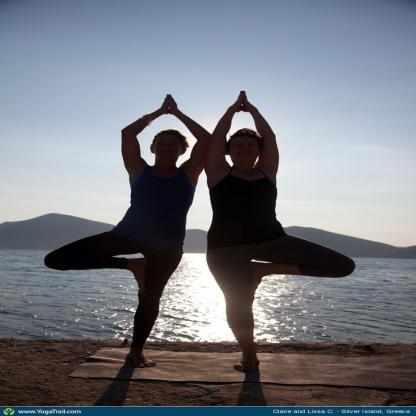tree: (207, 84, 370, 402), (40, 84, 209, 380)
